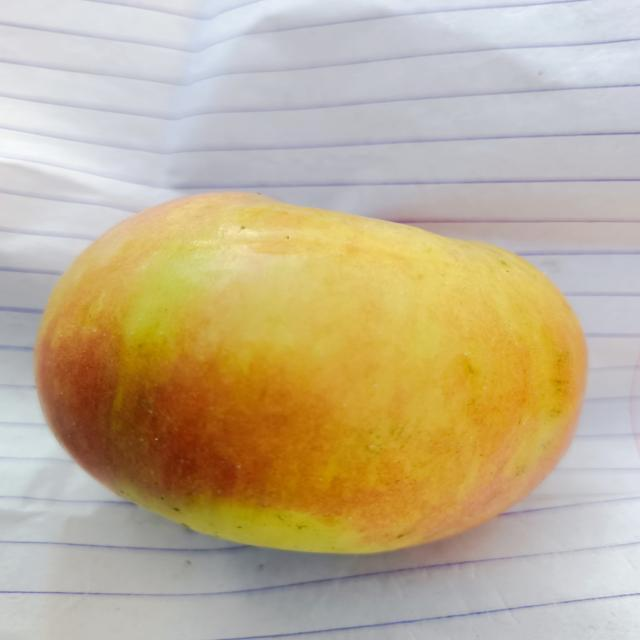Fresh Apple: (37, 195, 578, 542)
